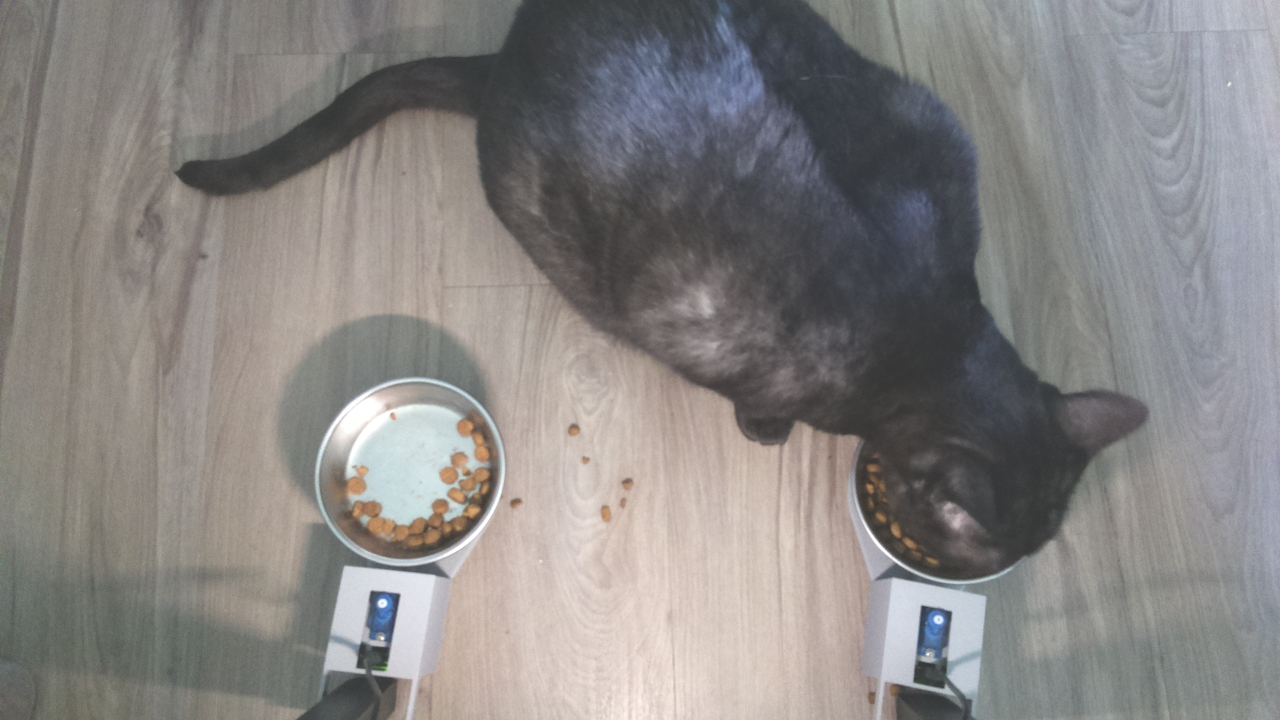open_bowl: (311, 375, 508, 569)
saki_eating: (840, 309, 1161, 600)
